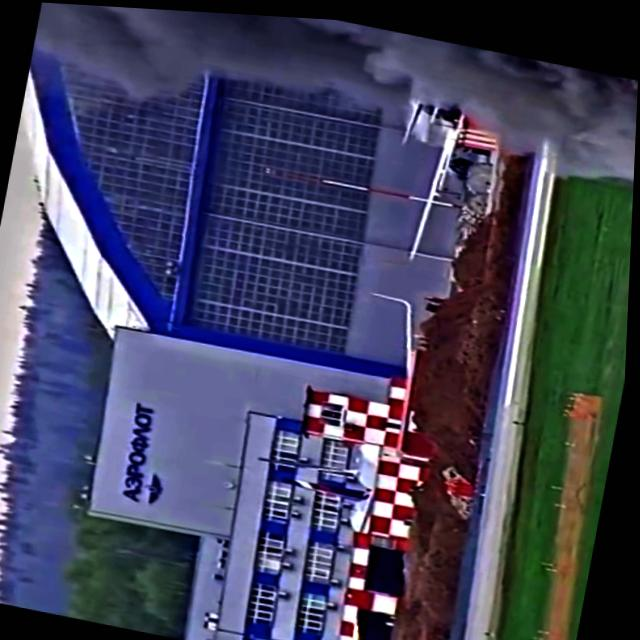smoke: (34, 2, 556, 126)
